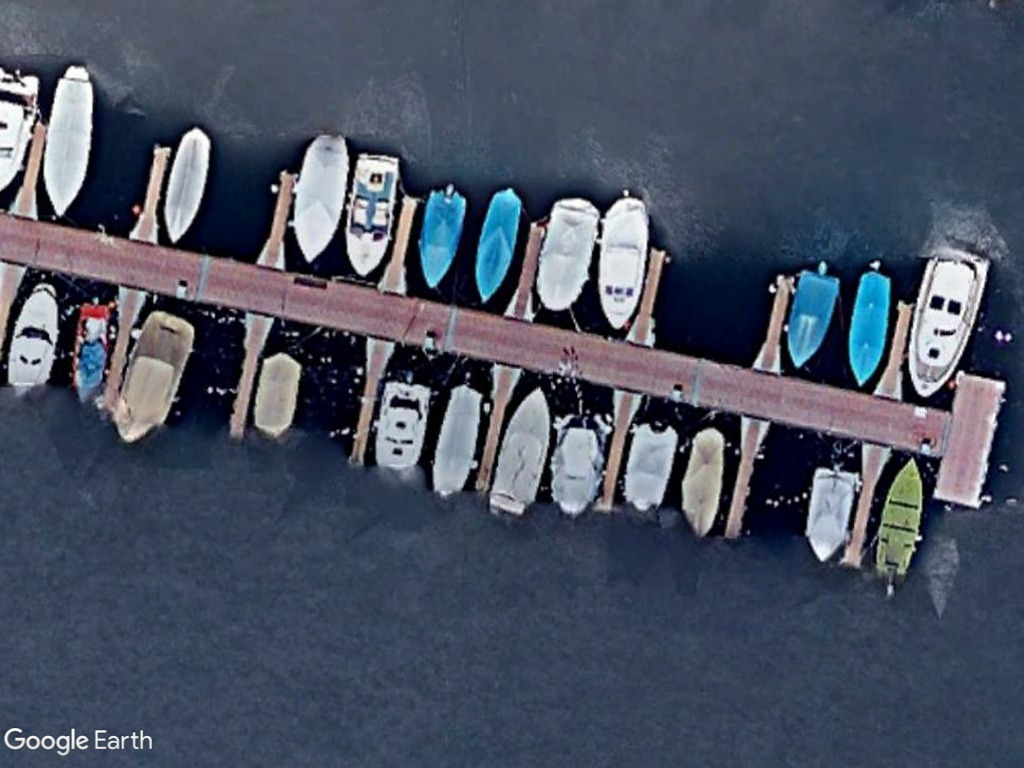boat: (903, 250, 992, 397), (111, 306, 197, 449), (38, 70, 98, 224), (489, 380, 556, 516), (594, 188, 655, 337), (868, 453, 935, 587), (533, 190, 600, 316), (291, 128, 350, 271), (155, 117, 218, 247), (427, 383, 494, 504), (1, 281, 68, 399), (344, 145, 403, 277), (778, 267, 843, 373), (799, 461, 865, 563), (470, 183, 524, 306), (373, 373, 433, 480), (549, 416, 610, 520), (677, 423, 729, 543), (623, 417, 683, 519), (413, 181, 470, 288), (846, 264, 892, 389)
